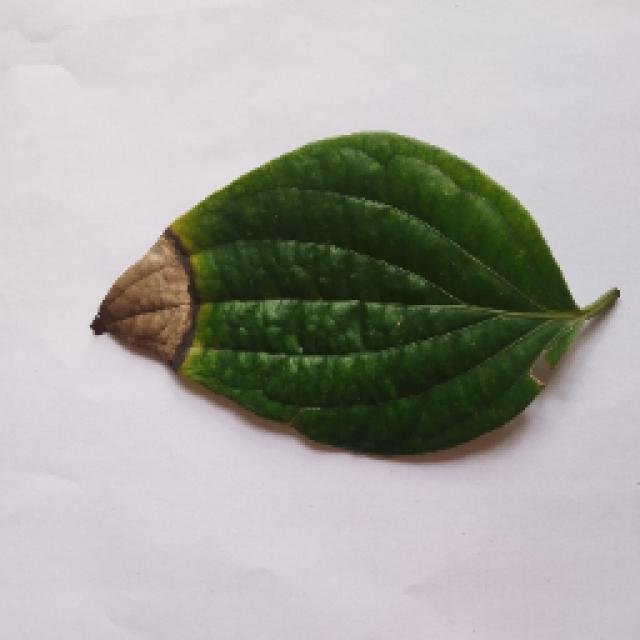footrot: (92, 130, 612, 450)
